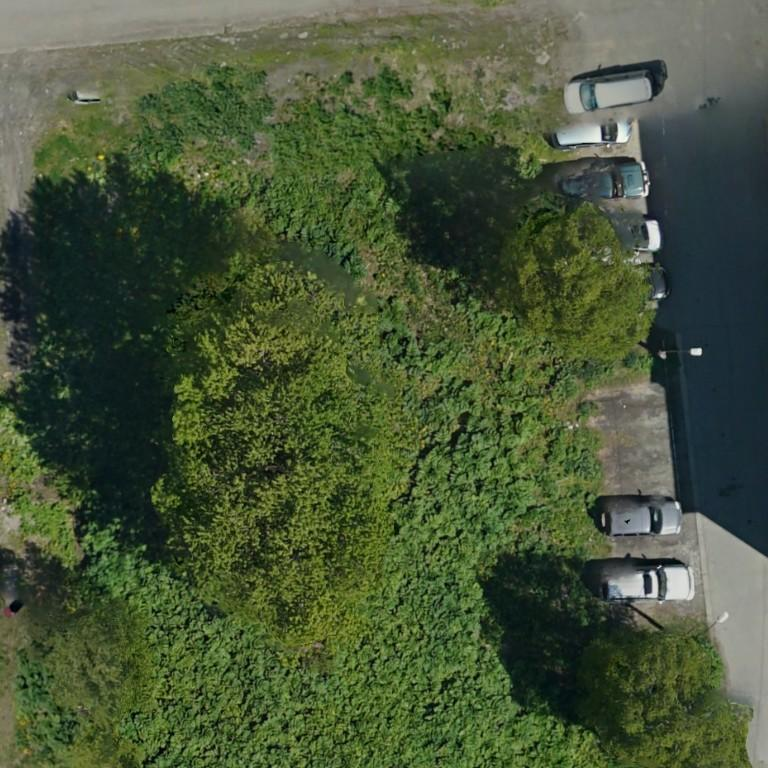hogweed: (81, 361, 609, 767), (214, 160, 415, 277), (269, 66, 438, 176), (140, 66, 272, 147), (377, 295, 463, 381), (13, 654, 76, 762), (459, 296, 539, 355), (137, 125, 181, 161), (551, 370, 579, 400)
